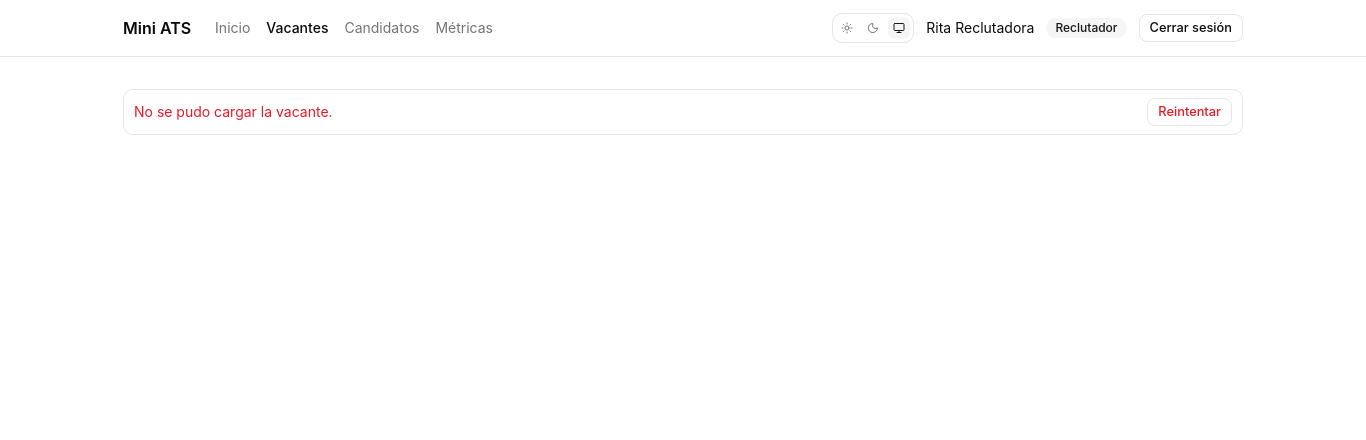
Test case: job form › retries after a load error
The width and height of the screenshot is (1366, 440).
Expected: the text "No se pudo cargar la vacante." is shown, [134, 102, 333, 122]
Click the button "Reintentar": coordinates (1190, 112) [1147, 98, 1232, 126]
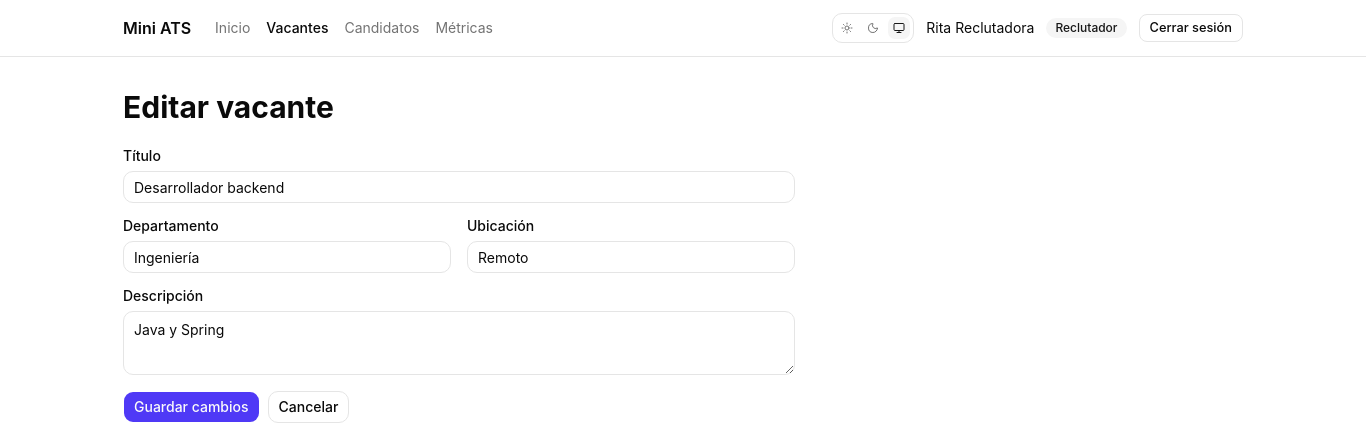
Result: the field labelled "Título" holds "Desarrollador backend" at [123, 171, 795, 203]
